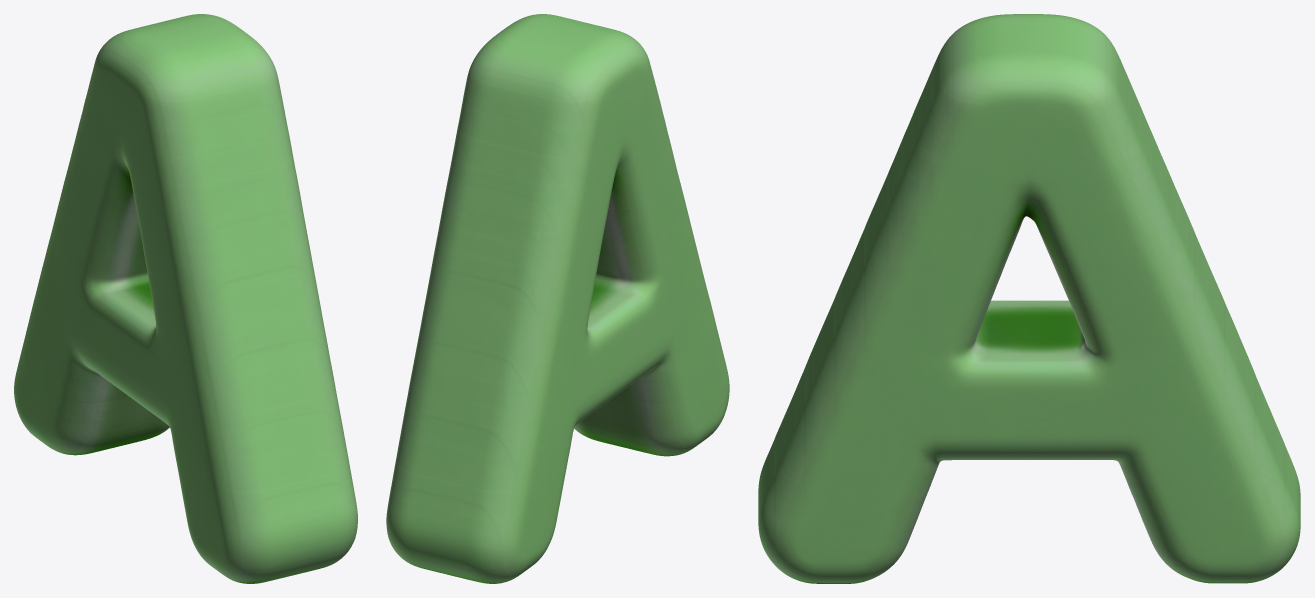
The picture shows the model from 3 angles, left to right: view 1: azimuth 30°, elevation 25°; view 2: azimuth 150°, elevation 25°; view 3: azimuth 270°, elevation 25°; orthographic projection. The views are drawn at different scales.
Parts seen in each view (by area): view 1: tripo_node_b8d69d8d-c53c-4a62-ab25-860b8b21820e; view 2: tripo_node_b8d69d8d-c53c-4a62-ab25-860b8b21820e; view 3: tripo_node_b8d69d8d-c53c-4a62-ab25-860b8b21820e.
Part boxes in pixels (x1,y1,x2,y2): tripo_node_b8d69d8d-c53c-4a62-ab25-860b8b21820e: (14,14,357,583); tripo_node_b8d69d8d-c53c-4a62-ab25-860b8b21820e: (386,14,729,583); tripo_node_b8d69d8d-c53c-4a62-ab25-860b8b21820e: (758,14,1300,583).
Size of the model in its own units: 0.2951 by 1 by 0.9327.
1 material, 1 textured.
